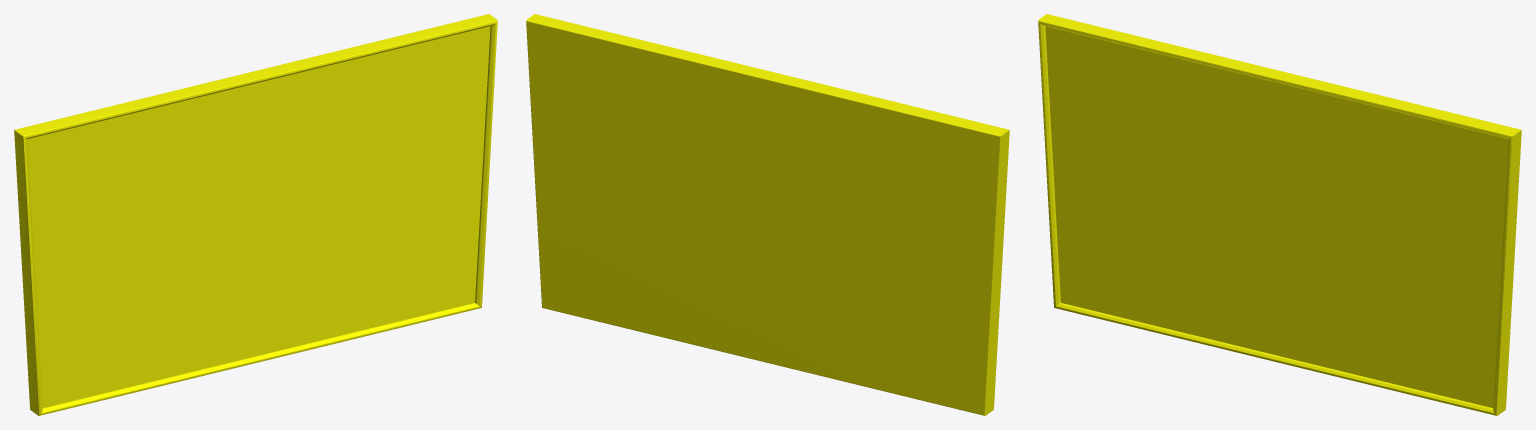
The model's file is GB_monitor.fbx.
3 views of the same model, side by side, from view 1: azimuth 30°, elevation 25°; view 2: azimuth 150°, elevation 25°; view 3: azimuth 330°, elevation 25° (orthographic).
Visible parts, largest first — view 1: monitor; view 2: monitor; view 3: monitor.
Boxes of the visible parts, bbox=[...] form: monitor: bbox=[14, 14, 497, 415]; monitor: bbox=[526, 14, 1009, 415]; monitor: bbox=[1038, 14, 1521, 415].
Bounding box in the file's own units: 431 × 246 × 15.
